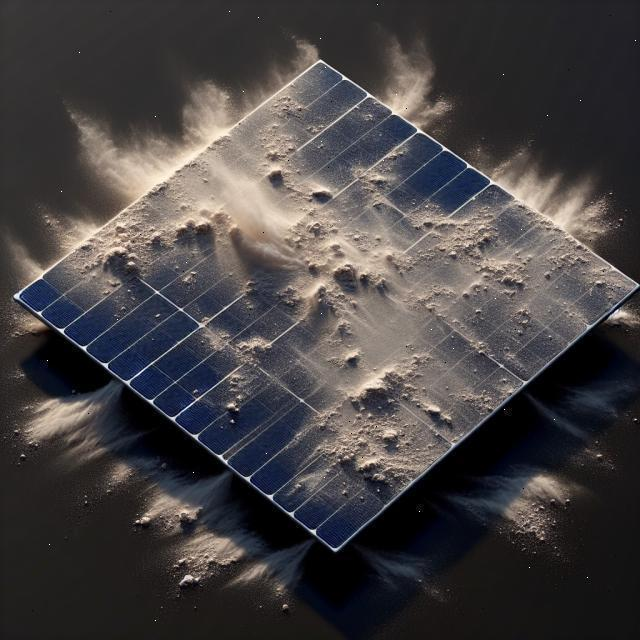Anomaly Solar Panel: (15, 0, 638, 597)
Surface Contaminant: (43, 0, 638, 574)
